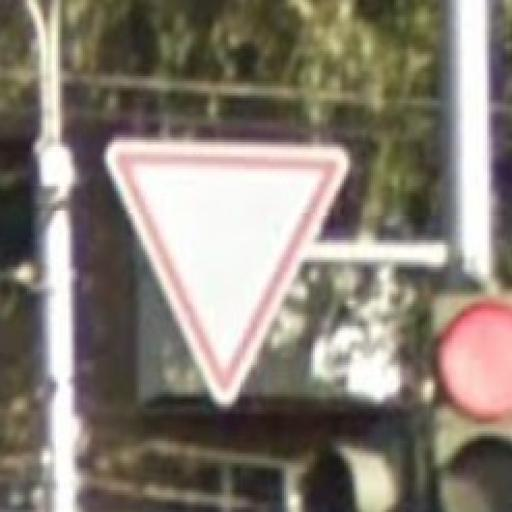traffic_sign: (105, 138, 349, 408)
